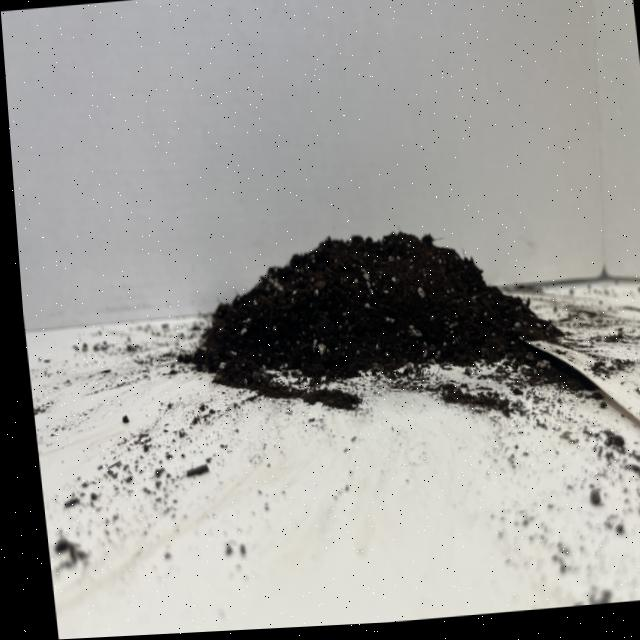soil: (165, 211, 574, 426)
